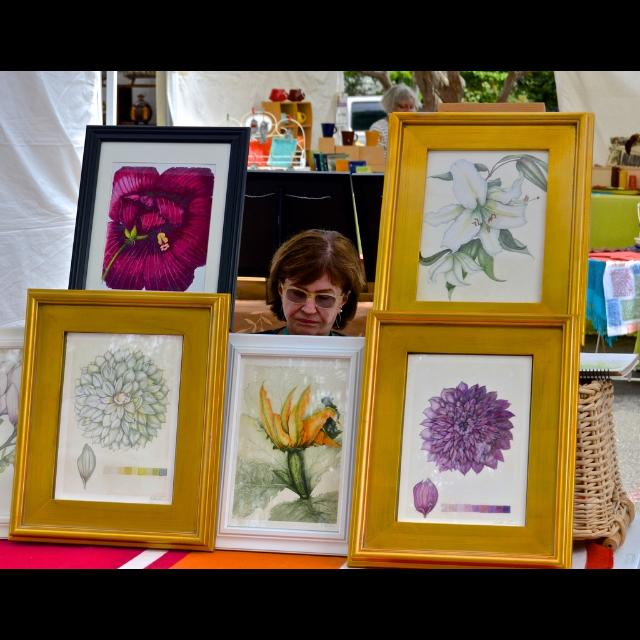Flower: (420, 155, 550, 301), (105, 165, 215, 288), (428, 382, 526, 492), (71, 342, 167, 450), (258, 384, 338, 456), (412, 478, 438, 518), (81, 444, 95, 488)
